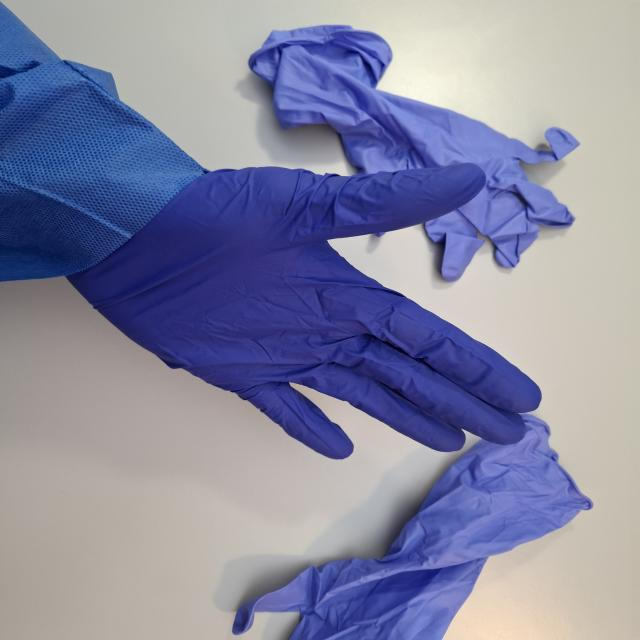glove_on: (63, 161, 546, 462)
